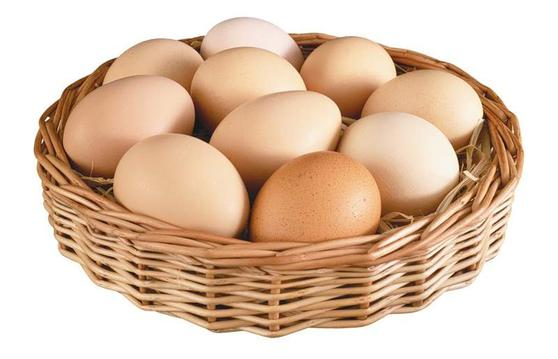egg: (109, 135, 251, 229), (245, 153, 382, 247)
